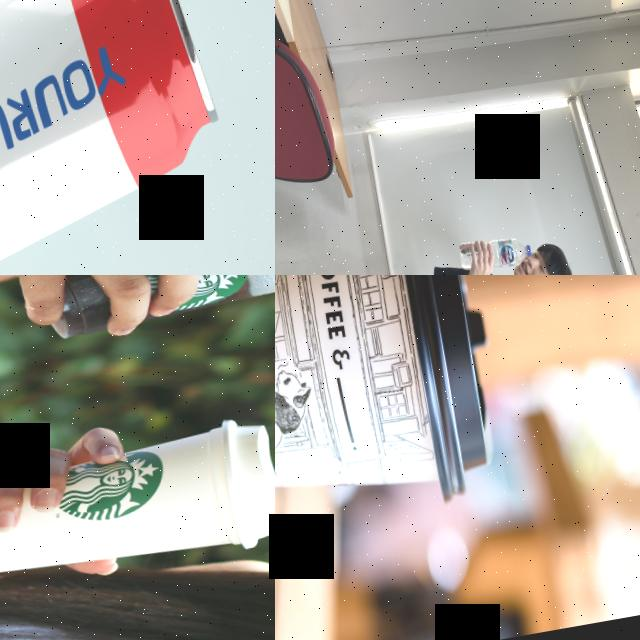bottle: (458, 231, 534, 275)
can: (0, 0, 249, 275)
cup: (275, 275, 502, 546), (0, 412, 275, 601), (23, 275, 275, 342)
